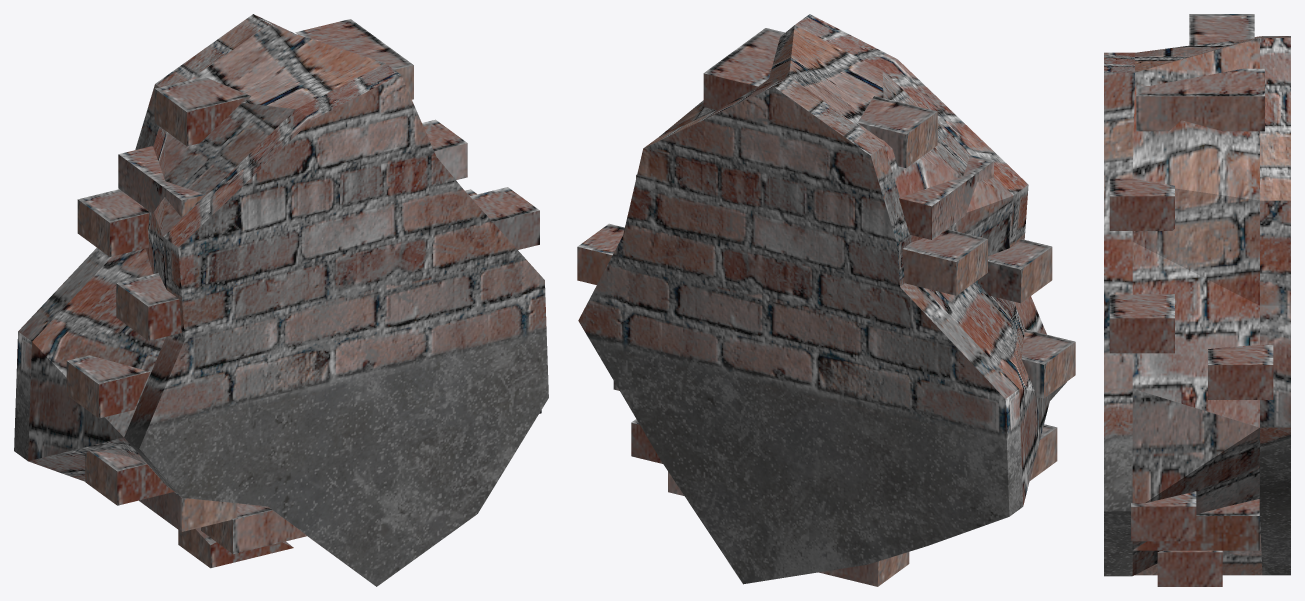
Rendered from hutongWallDebri.fbx.
The picture shows the model from 3 angles, left to right: view 1: azimuth 30°, elevation 25°; view 2: azimuth 150°, elevation 25°; view 3: azimuth 270°, elevation 25°; orthographic projection. The views are drawn at different scales.
Parts seen in each view (by area): view 1: hutong_wall_debri; view 2: hutong_wall_debri; view 3: hutong_wall_debri.
Part boxes in pixels (bbox=[...]): hutong_wall_debri: bbox=[14, 14, 548, 586]; hutong_wall_debri: bbox=[577, 14, 1075, 586]; hutong_wall_debri: bbox=[1104, 14, 1290, 586].
Size of the model in its own units: 99.54 by 109 by 35.31.
